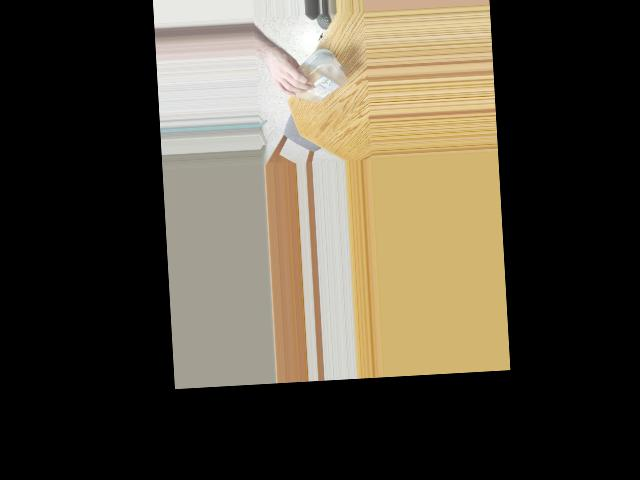cheese: (279, 50, 349, 105)
